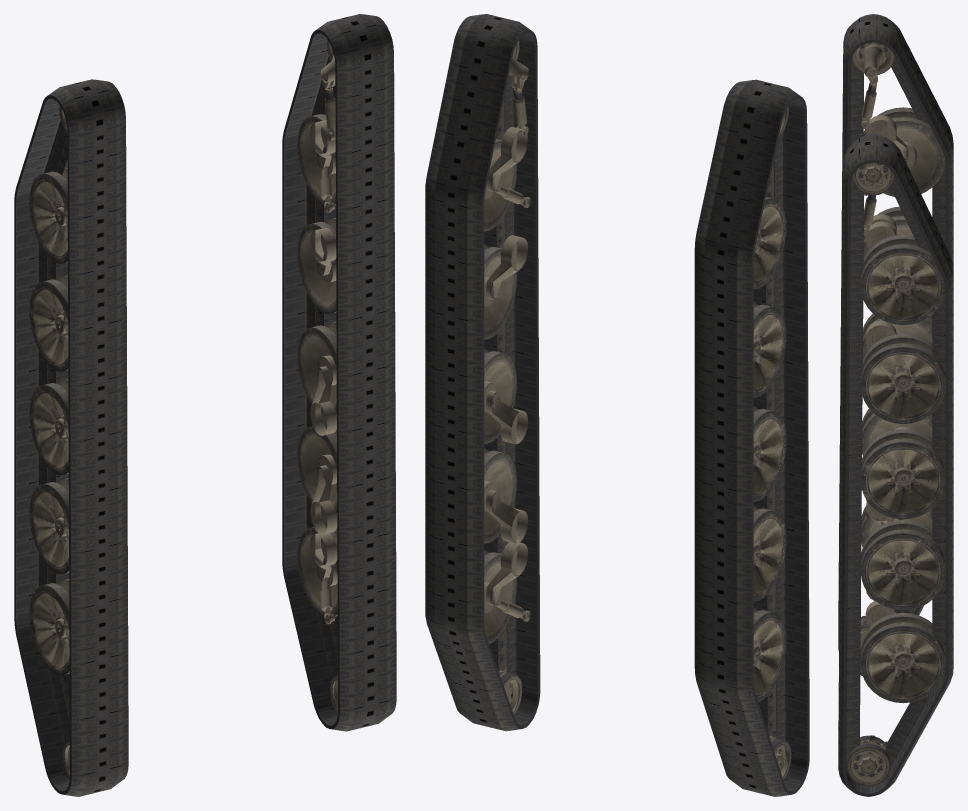
The model's file is Chassis.glb.
3 renders of one model, left to right at view 1: azimuth 30°, elevation 25°; view 2: azimuth 150°, elevation 25°; view 3: azimuth 270°, elevation 25°, orthographic. The views are drawn at different scales.
Parts seen in each view (by area): view 1: set_0_group_0, set_1_group_0, set_3_group_0, set_2_group_0; view 2: set_0_group_0, set_1_group_0, set_3_group_0, set_2_group_0; view 3: set_3_group_0, set_1_group_0, set_2_group_0, set_0_group_0.
Boxes of the visible parts, left/top/right/bottom form: set_0_group_0: left=14, top=79, right=128, bottom=796; set_1_group_0: left=282, top=14, right=396, bottom=731; set_3_group_0: left=297, top=40, right=337, bottom=714; set_2_group_0: left=29, top=105, right=69, bottom=779; set_0_group_0: left=694, top=79, right=809, bottom=796; set_1_group_0: left=425, top=14, right=540, bottom=731; set_3_group_0: left=484, top=40, right=530, bottom=715; set_2_group_0: left=753, top=106, right=791, bottom=780; set_3_group_0: left=846, top=162, right=945, bottom=786; set_1_group_0: left=838, top=134, right=953, bottom=796; set_2_group_0: left=852, top=42, right=945, bottom=664; set_0_group_0: left=838, top=14, right=953, bottom=675.
Bounding box in the file's own units: 2.77 × 5.73 × 0.9284.
Materials: 4 (4 with a texture image).
